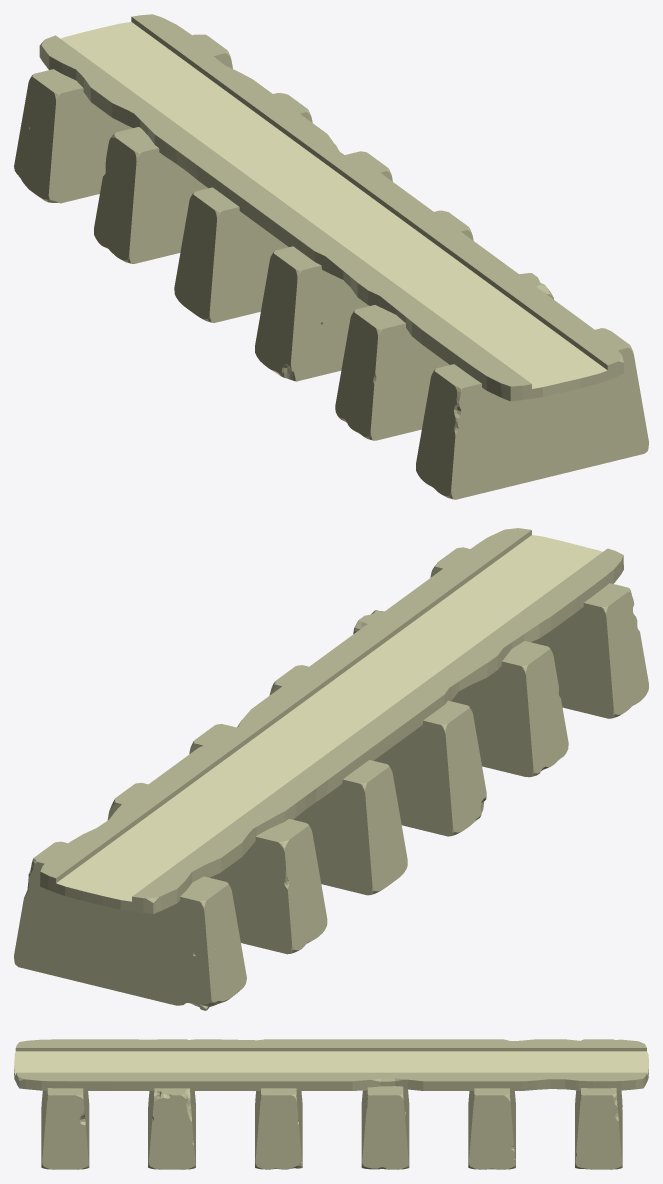
The model's file is PUENTE.fbx.
3 views of the same model, one above another, from view 1: azimuth 30°, elevation 25°; view 2: azimuth 150°, elevation 25°; view 3: azimuth 270°, elevation 25° (orthographic). The views are drawn at different scales.
Visible parts, largest first — view 1: Cube.006_dmg.001; view 2: Cube.006_dmg.001; view 3: Cube.006_dmg.001.
Part boxes in pixels (<box>): Cube.006_dmg.001: <box>14,14,648,499</box>; Cube.006_dmg.001: <box>14,528,648,1010</box>; Cube.006_dmg.001: <box>14,1039,648,1169</box>.
Size of the model in its own units: 863 by 478 by 3572.
